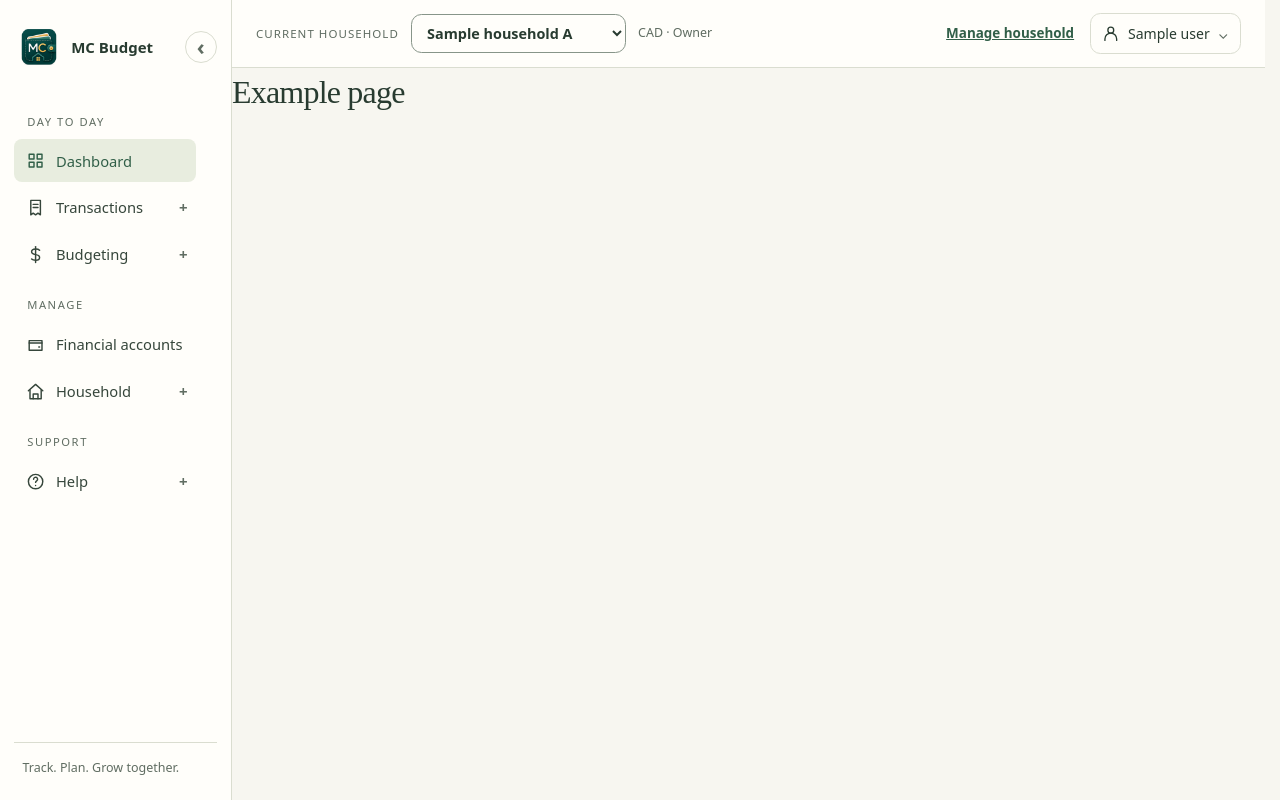
Scenario: grouped application navigation › starts with six clear destinations and keeps secondary pages under their section
Expected: the link "Import transactions" is not shown
Click the button named "Expand Transactions navigation" at x=183, y=208, box [169,190,198,225]
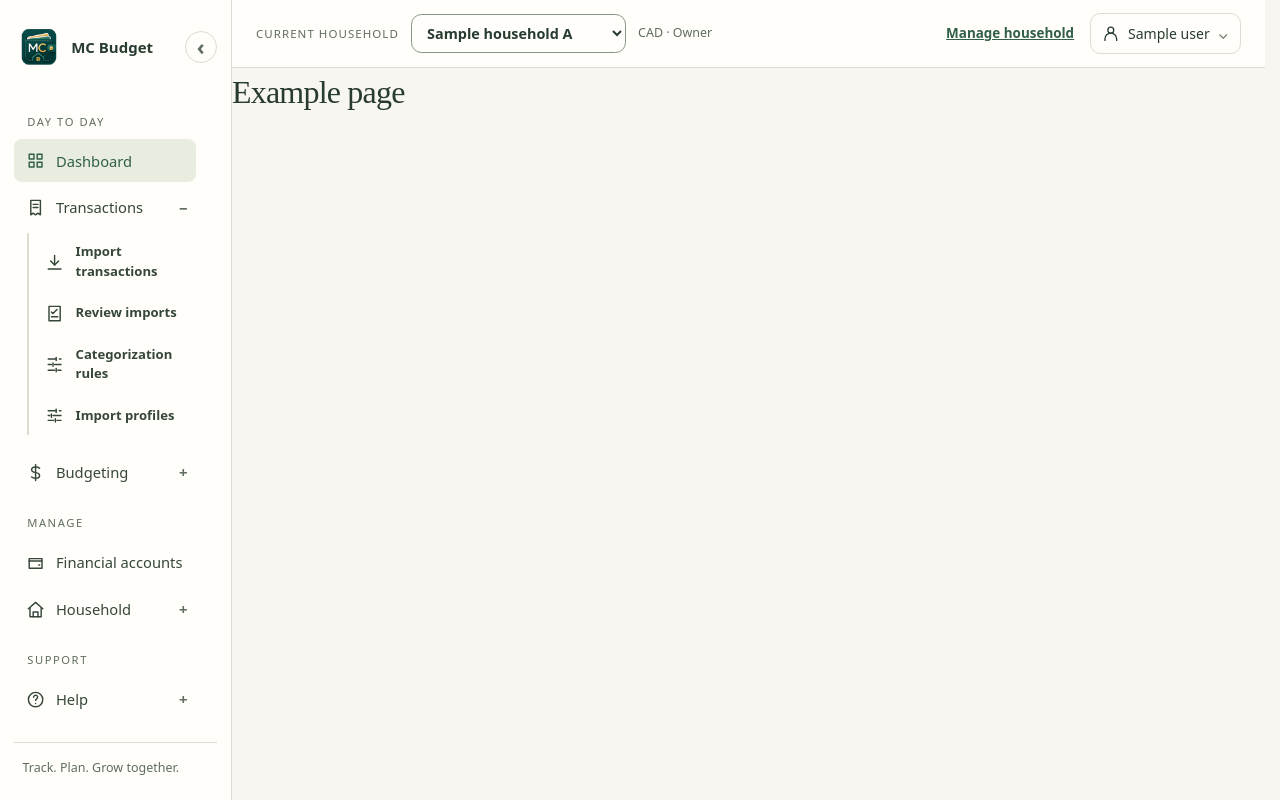
Expected: the link "Review imports" is shown, [45,303,177,323]
Click the button named "Collapse Transactions navigation" at x=183, y=208, box [169,190,198,225]
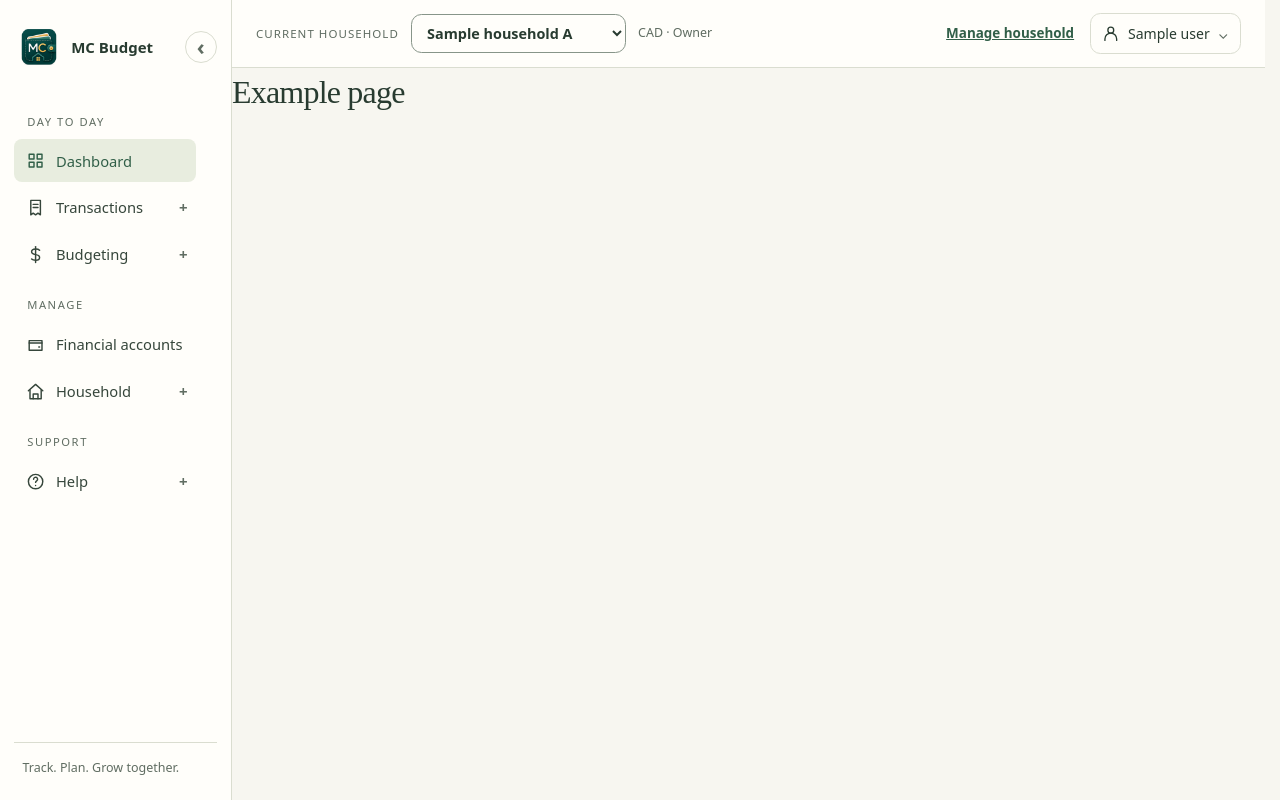
Expected: the link "Import transactions" is gone
